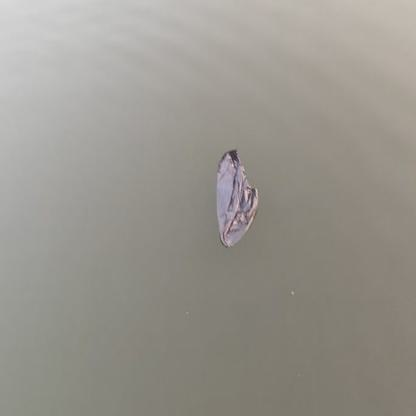plastic bag: (216, 147, 258, 247)
